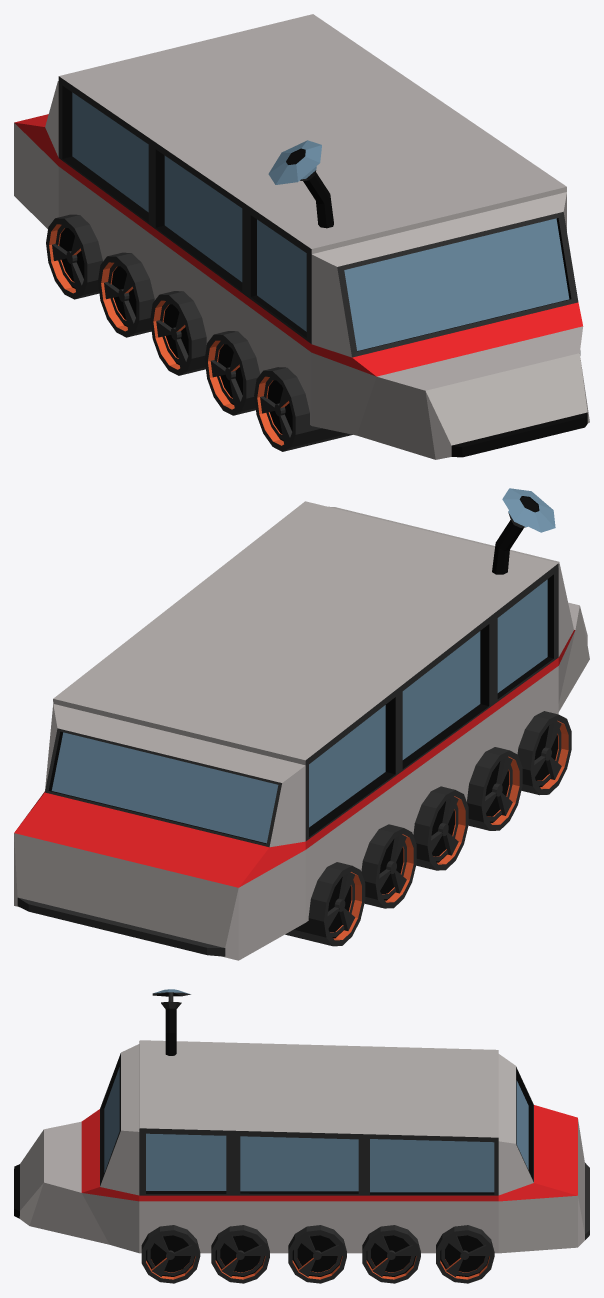
Rendered from Vehicle_Hangar.fbx.
The picture shows the model from 3 angles, top to bottom: view 1: azimuth 30°, elevation 25°; view 2: azimuth 150°, elevation 25°; view 3: azimuth 270°, elevation 25°; orthographic projection. The views are drawn at different scales.
Parts seen in each view (by area): view 1: Vehicle Body, Vehicle Wheel Holes, Vehicle Wheels; view 2: Vehicle Body, Vehicle Wheel Holes, Vehicle Wheels; view 3: Vehicle Body, Vehicle Wheel Holes, Vehicle Wheels.
Boxes of the visible parts, x1,y1,x2,y2 form: Vehicle Body: (14, 14, 589, 459); Vehicle Wheel Holes: (46, 214, 580, 451); Vehicle Wheels: (55, 224, 283, 439); Vehicle Body: (14, 488, 589, 960); Vehicle Wheel Holes: (285, 711, 571, 946); Vehicle Wheels: (329, 724, 561, 936); Vehicle Body: (14, 989, 589, 1253); Vehicle Wheel Holes: (141, 1225, 494, 1283); Vehicle Wheels: (147, 1234, 488, 1275).
Bounding box in the file's own units: 958 × 941 × 2357.
